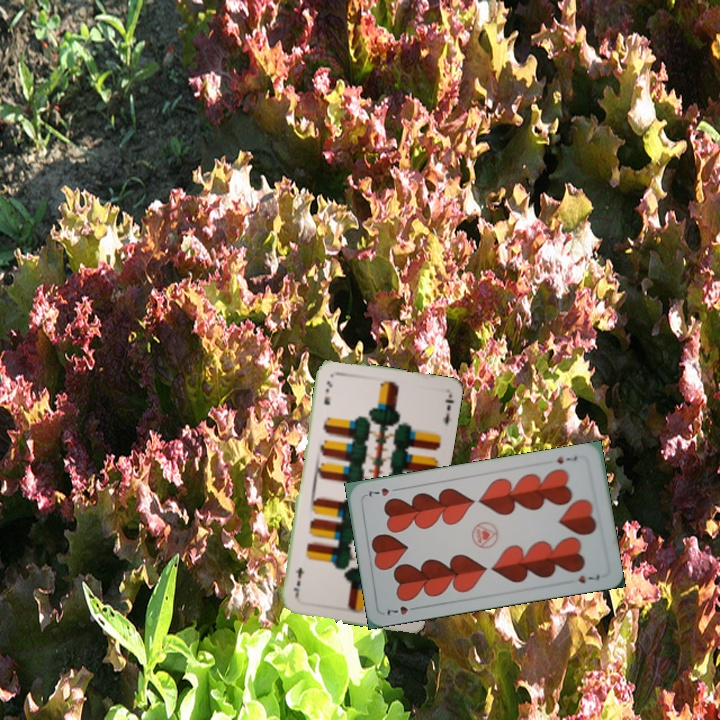E7: (320, 377, 335, 407)
H7: (383, 602, 421, 618), (553, 452, 580, 466)
